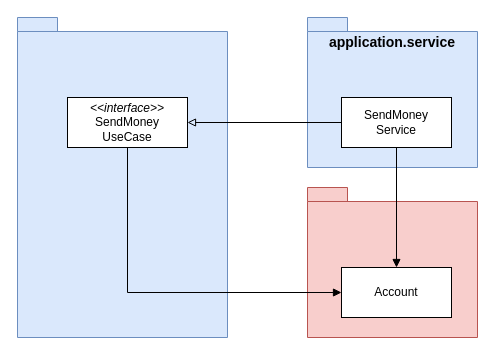
Some shapes in this 495 by 355 pixel diagram are drawn without their labels. The box of each missing label's shape, as (x1, y1, x2, y2) in pixels:
application.port.in: (16, 16, 228, 338)
domain: (306, 186, 478, 338)
